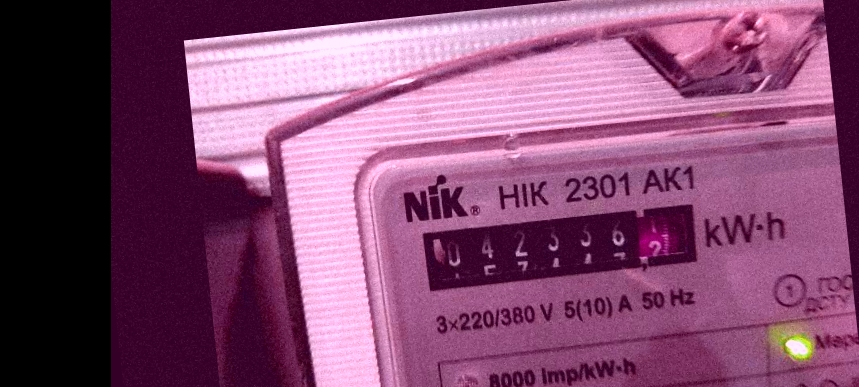0: (444, 238, 463, 268)
1: (646, 212, 660, 235)
2: (512, 227, 531, 258), (646, 237, 664, 257)
3: (575, 218, 594, 249), (543, 223, 561, 252)
4: (478, 230, 498, 260)
6: (609, 216, 629, 248)
screen: (410, 190, 713, 301)
